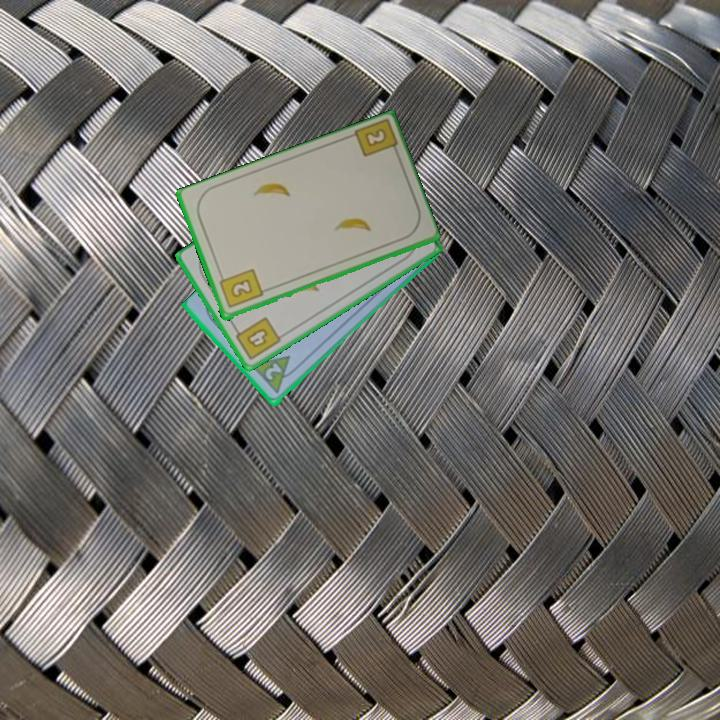2b: (349, 117, 402, 161), (216, 265, 265, 311)
2p: (261, 360, 285, 384)
4b: (230, 314, 284, 363)
